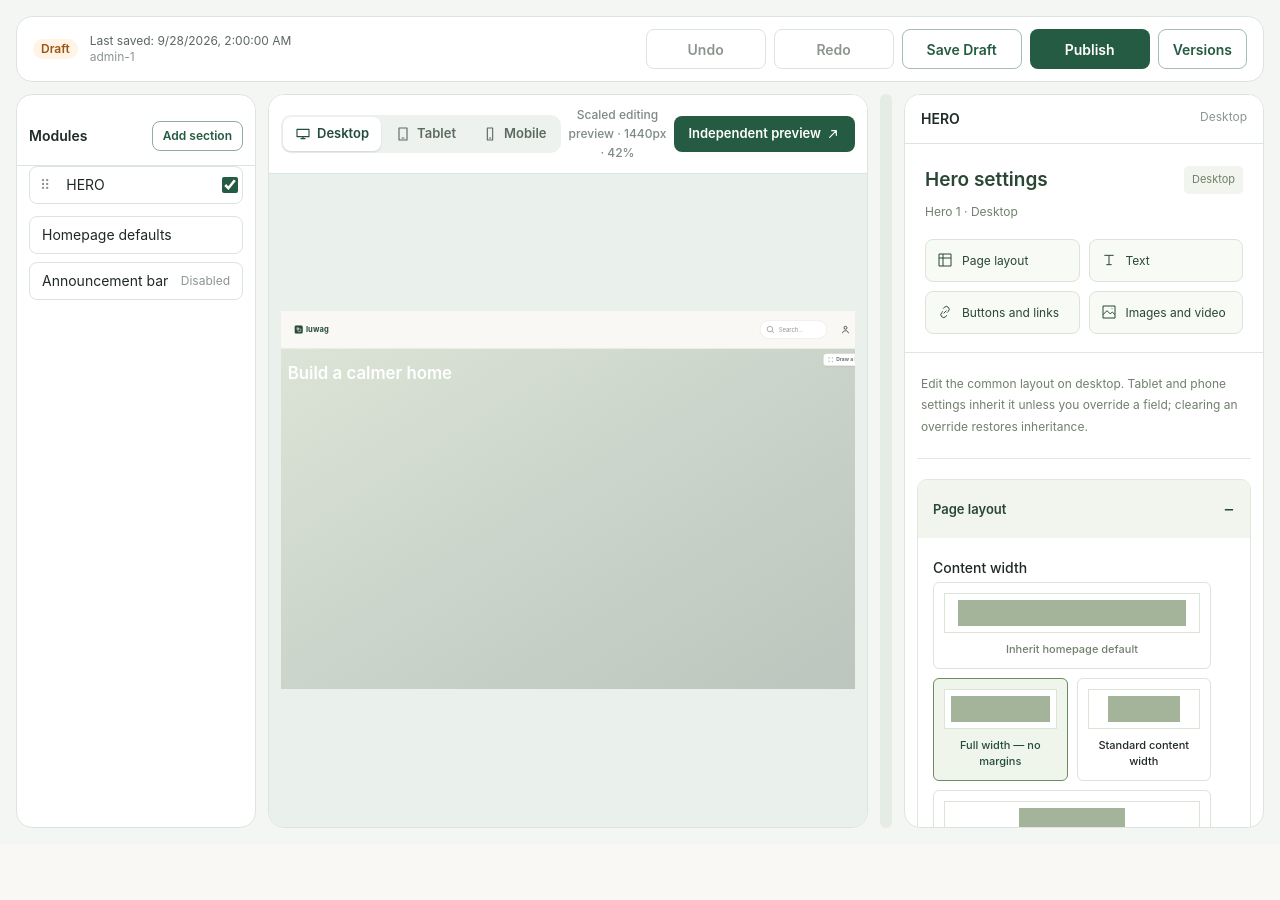
Test: HeroCanvas › keeps the canvas inside the device frame with right-pane routing intact
Expected: the button "Save Draft" is shown, [902,29,1022,69]
Expected: the element showing "M" is shown, [281,311,855,689]
What coordinates should you click on to do the following:
click the element showing "Build a calmer home"
I would click on:
 (370, 374)
Its box is [288,363,452,384].
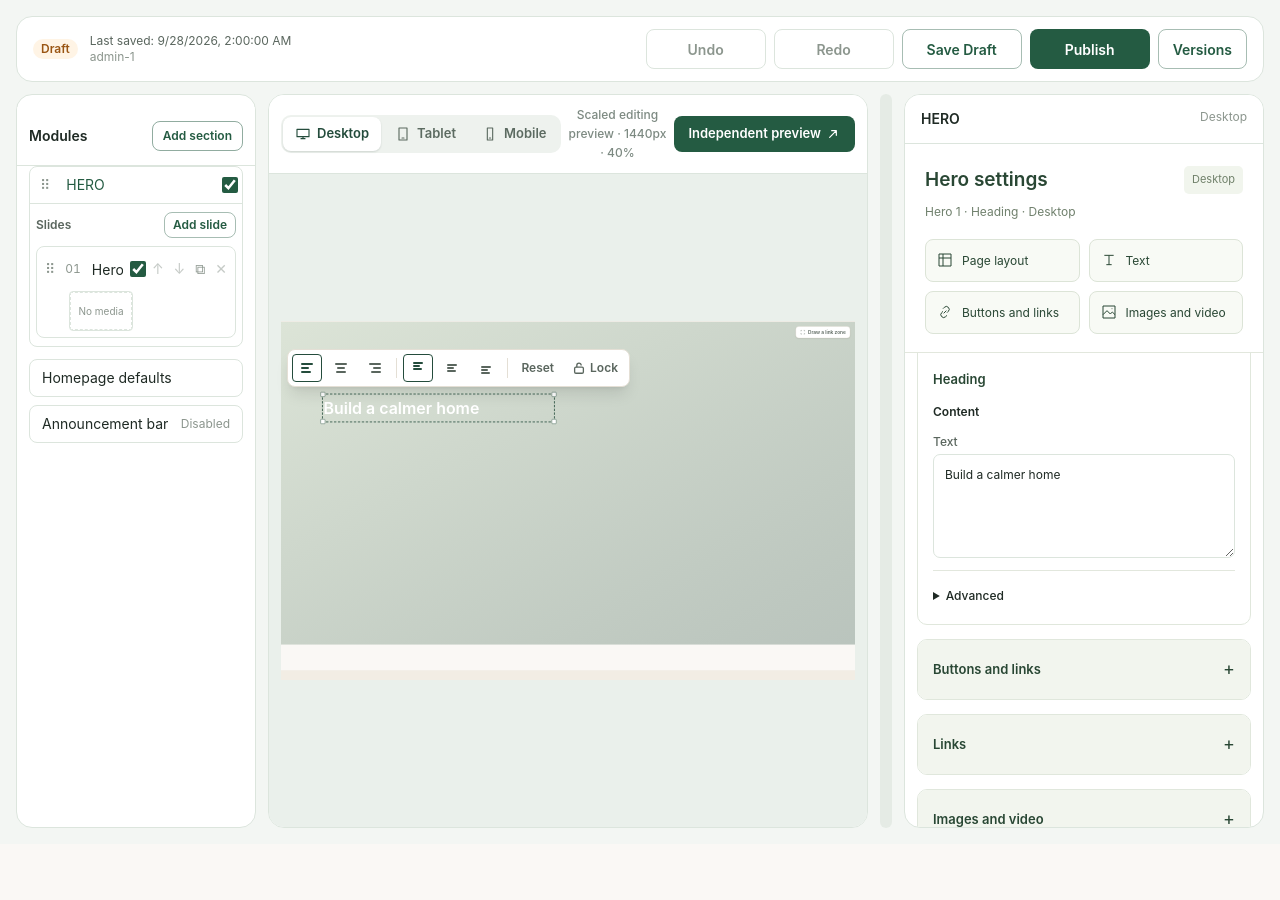
Expected: the text box named "Text" is shown, [933,454,1235,558]
